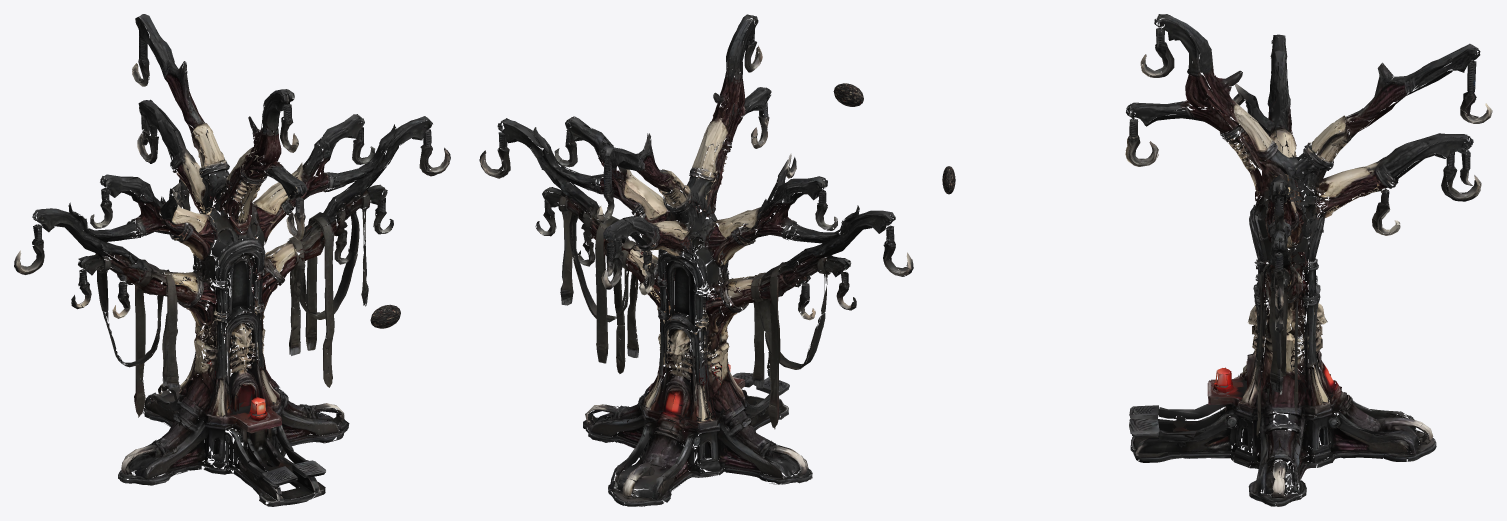
Rendered from vesper_surrender_weapon_tree.glb.
The picture shows the model from 3 angles, left to right: view 1: azimuth 30°, elevation 25°; view 2: azimuth 150°, elevation 25°; view 3: azimuth 270°, elevation 25°; orthographic projection. The views are drawn at different scales.
Visible parts, largest first — view 1: node_0, HB_PULSE_00; view 2: node_0, HB_PULSE_00; view 3: node_0.
Part boxes in pixels (bbox=[...]): node_0: bbox=[14, 14, 450, 506]; HB_PULSE_00: bbox=[370, 304, 400, 328]; node_0: bbox=[479, 14, 913, 506]; HB_PULSE_00: bbox=[833, 83, 863, 106]; node_0: bbox=[1125, 14, 1492, 506].
Bounding box in the file's own units: 1.1 × 0.9639 × 1.11.
1 material, 1 textured.
